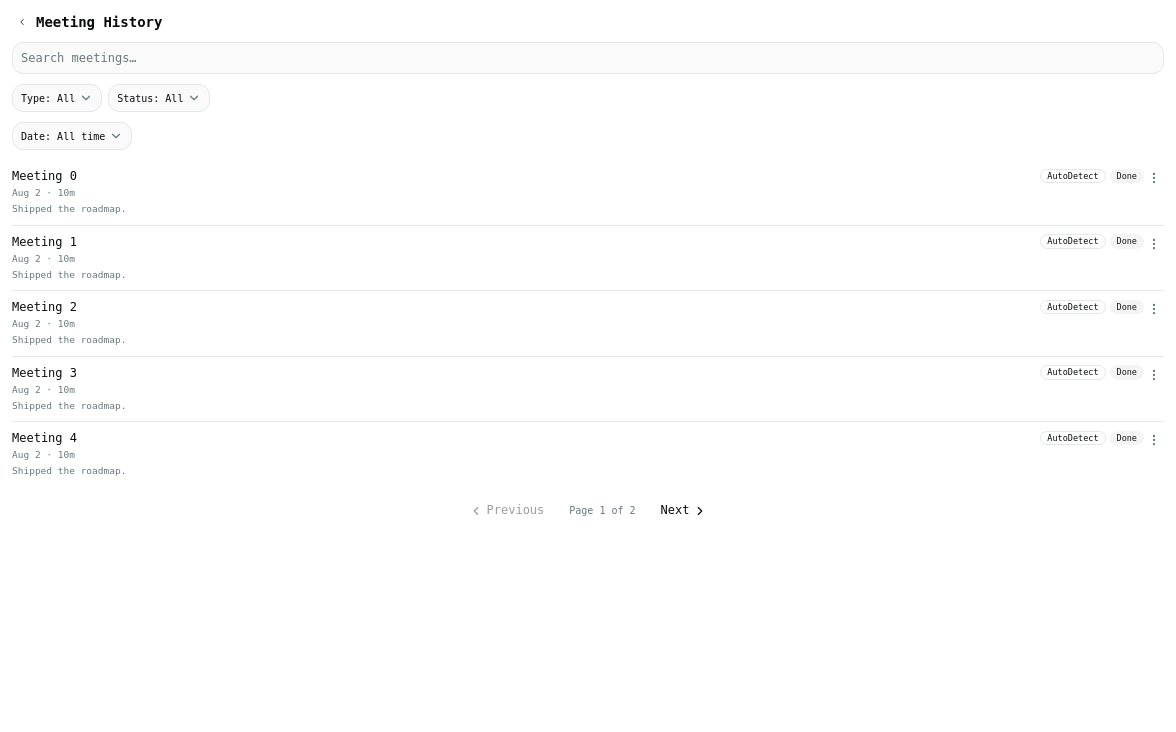
Test: MeetingHistory › with several meetings › disables Previous on the first page and Next on the last page
Expected: the text "Meeting 0" is shown, [12,168,77,184]
Click the button with aria-label "go to next page" at [684, 510], box [661,503,708,518]
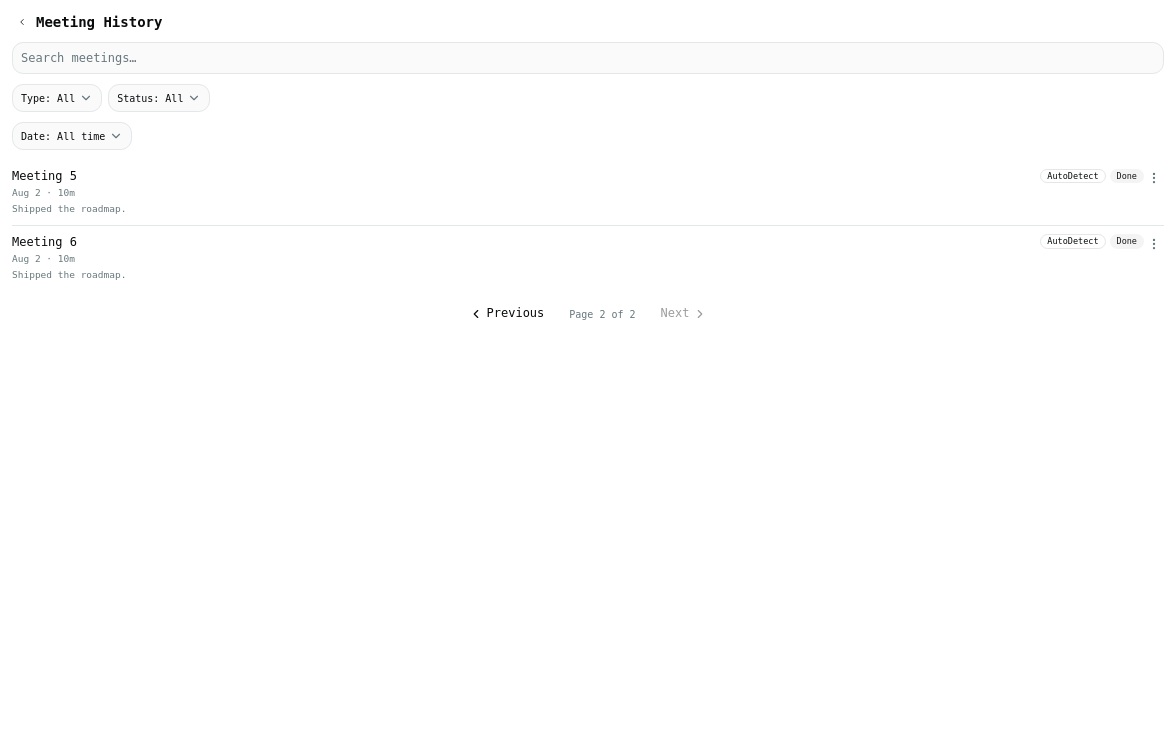
Expected: the text "Meeting 5" is shown, [12,168,77,184]
